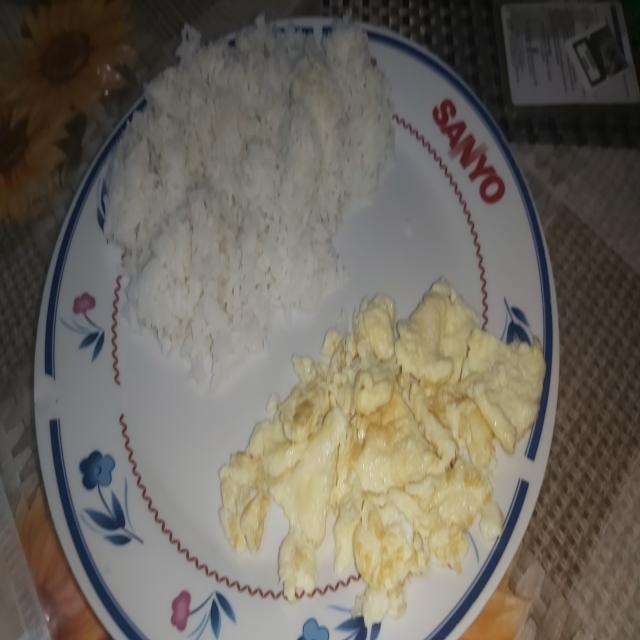Chicken -Chicken Inasal-: (122, 10, 387, 347)
